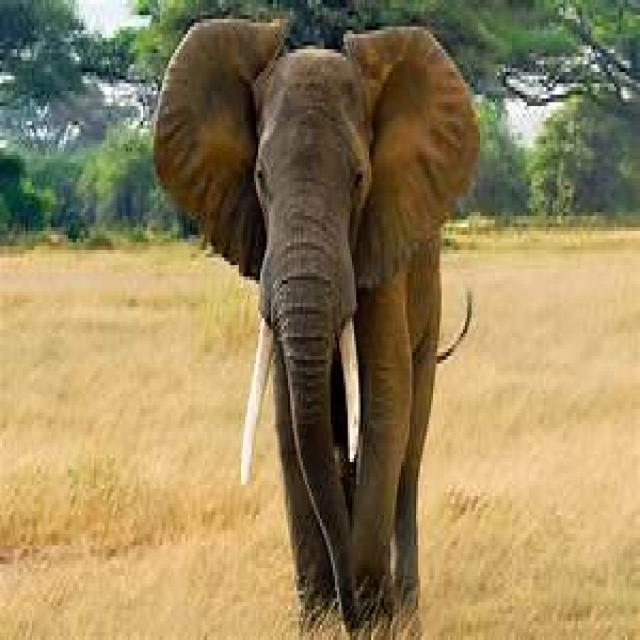elephant: (154, 19, 482, 640)
